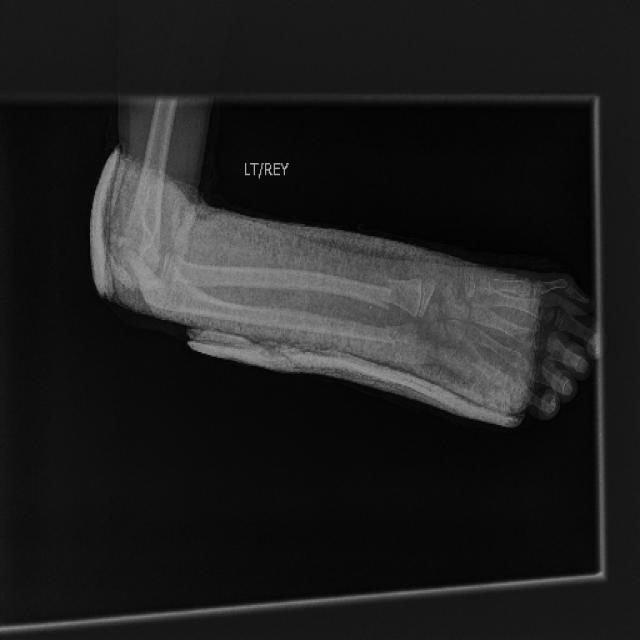forearm fracture: (355, 252, 420, 333)
